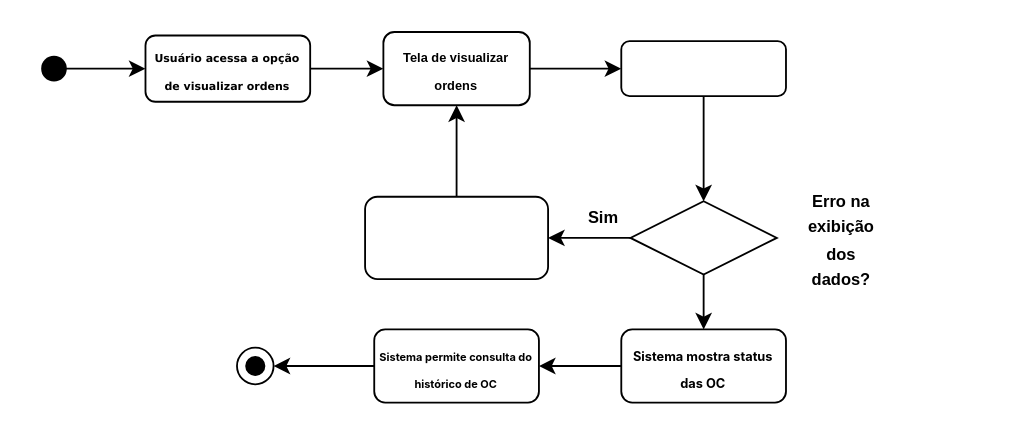
The diagram is 1010 pixels wide and 436 high, and some of its shapes have lost their labels. The shapes that lost their labels are listed below. From the top down, each one's centre as x and y in pixels, then its label:
At point 702,67: "Sistema exibe lista de ordens de compra".
At point 455,237: "Sistema exibe mensagem de erro e pede para tentar mais tarde.".
